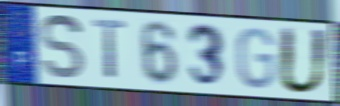3: (185, 20, 229, 90)
6: (139, 18, 181, 87)
G: (235, 26, 277, 91)
S: (39, 12, 87, 82)
T: (91, 17, 129, 82)
U: (277, 24, 331, 96)
